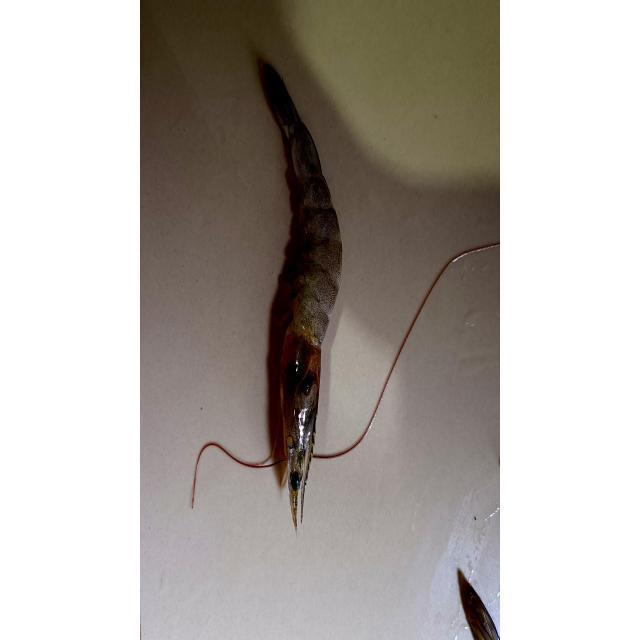shrimp: (264, 66, 342, 529), (468, 588, 500, 640)
